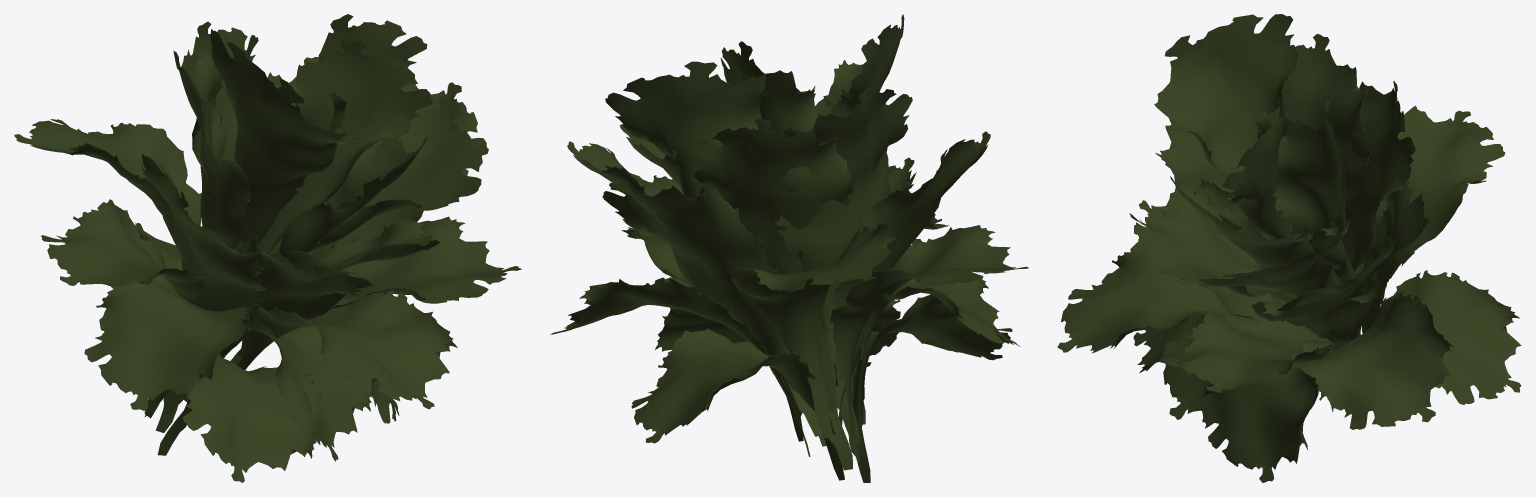
Rendered from lettuce1.glb.
The picture shows the model from 3 angles, left to right: view 1: azimuth 30°, elevation 25°; view 2: azimuth 150°, elevation 25°; view 3: azimuth 270°, elevation 25°; orthographic projection. The views are drawn at different scales.
Parts seen in each view (by area): view 1: Lettuce 13032019 006; view 2: Lettuce 13032019 006; view 3: Lettuce 13032019 006.
Part boxes in pixels (x1,y1,x2,y2): Lettuce 13032019 006: [14, 14, 521, 482]; Lettuce 13032019 006: [550, 14, 1028, 482]; Lettuce 13032019 006: [1057, 14, 1521, 482].
Size of the model in its own units: 0.2631 by 0.2501 by 0.2573.
